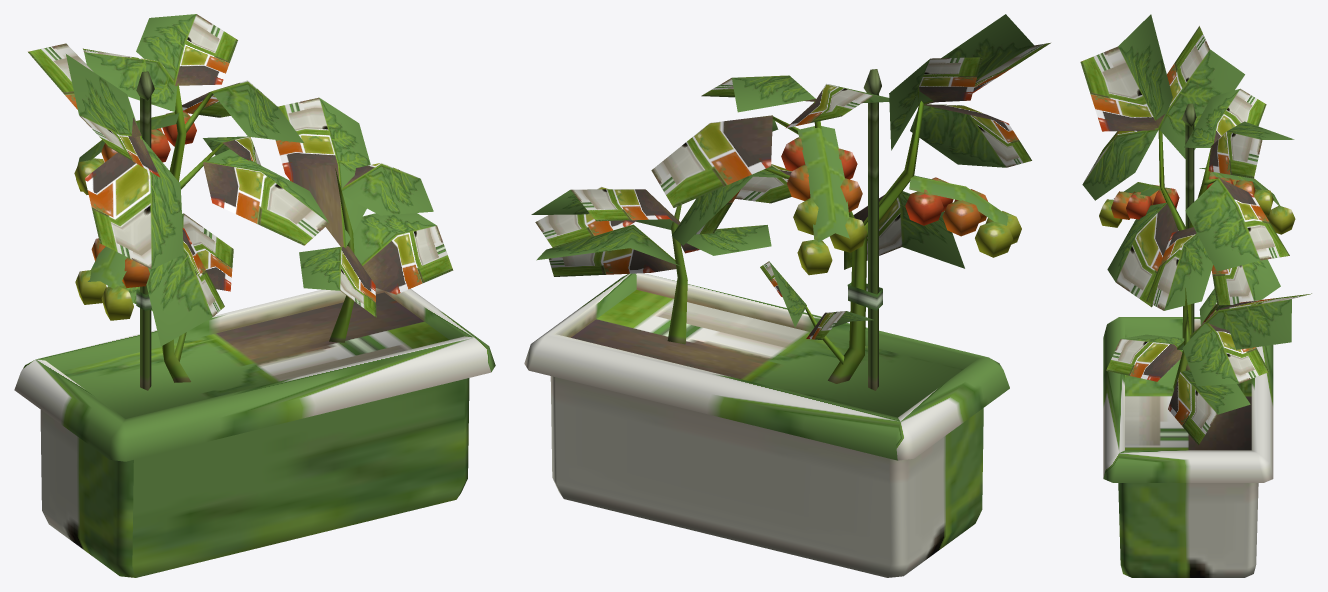
File: int_oth_planter.dae
3 renders of one model, left to right at view 1: azimuth 30°, elevation 25°; view 2: azimuth 150°, elevation 25°; view 3: azimuth 270°, elevation 25°, orthographic. The views are drawn at different scales.
Visible parts, largest first — view 1: int_oth_planter; view 2: int_oth_planter; view 3: int_oth_planter.
Boxes of the visible parts, <box> form: int_oth_planter: <box>14,14,495,577</box>; int_oth_planter: <box>524,14,1050,577</box>; int_oth_planter: <box>1080,14,1311,577</box>.
Bounding box in the file's own units: 31.41 × 37 × 18.82.
Materials: 1 (1 with a texture image).
